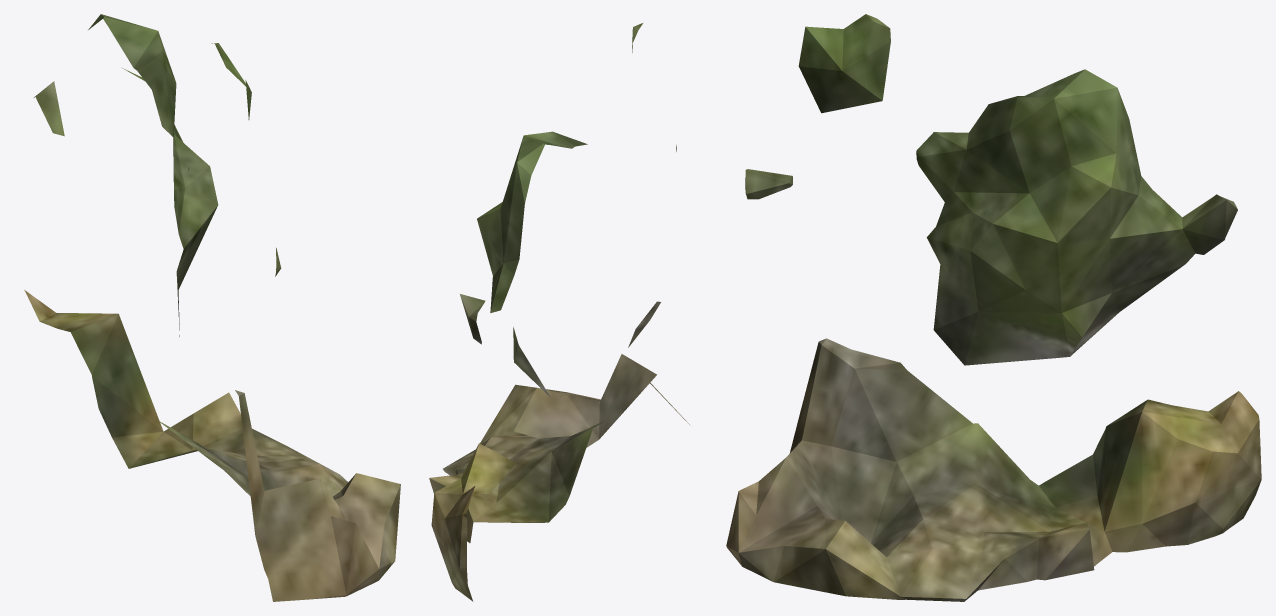
3 renders of one model, left to right at view 1: azimuth 30°, elevation 25°; view 2: azimuth 150°, elevation 25°; view 3: azimuth 270°, elevation 25°, orthographic. The views are drawn at different scales.
Size of the model in its own units: 1.47 by 4.09 by 3.93.
Materials: 1 (1 with a texture image).
